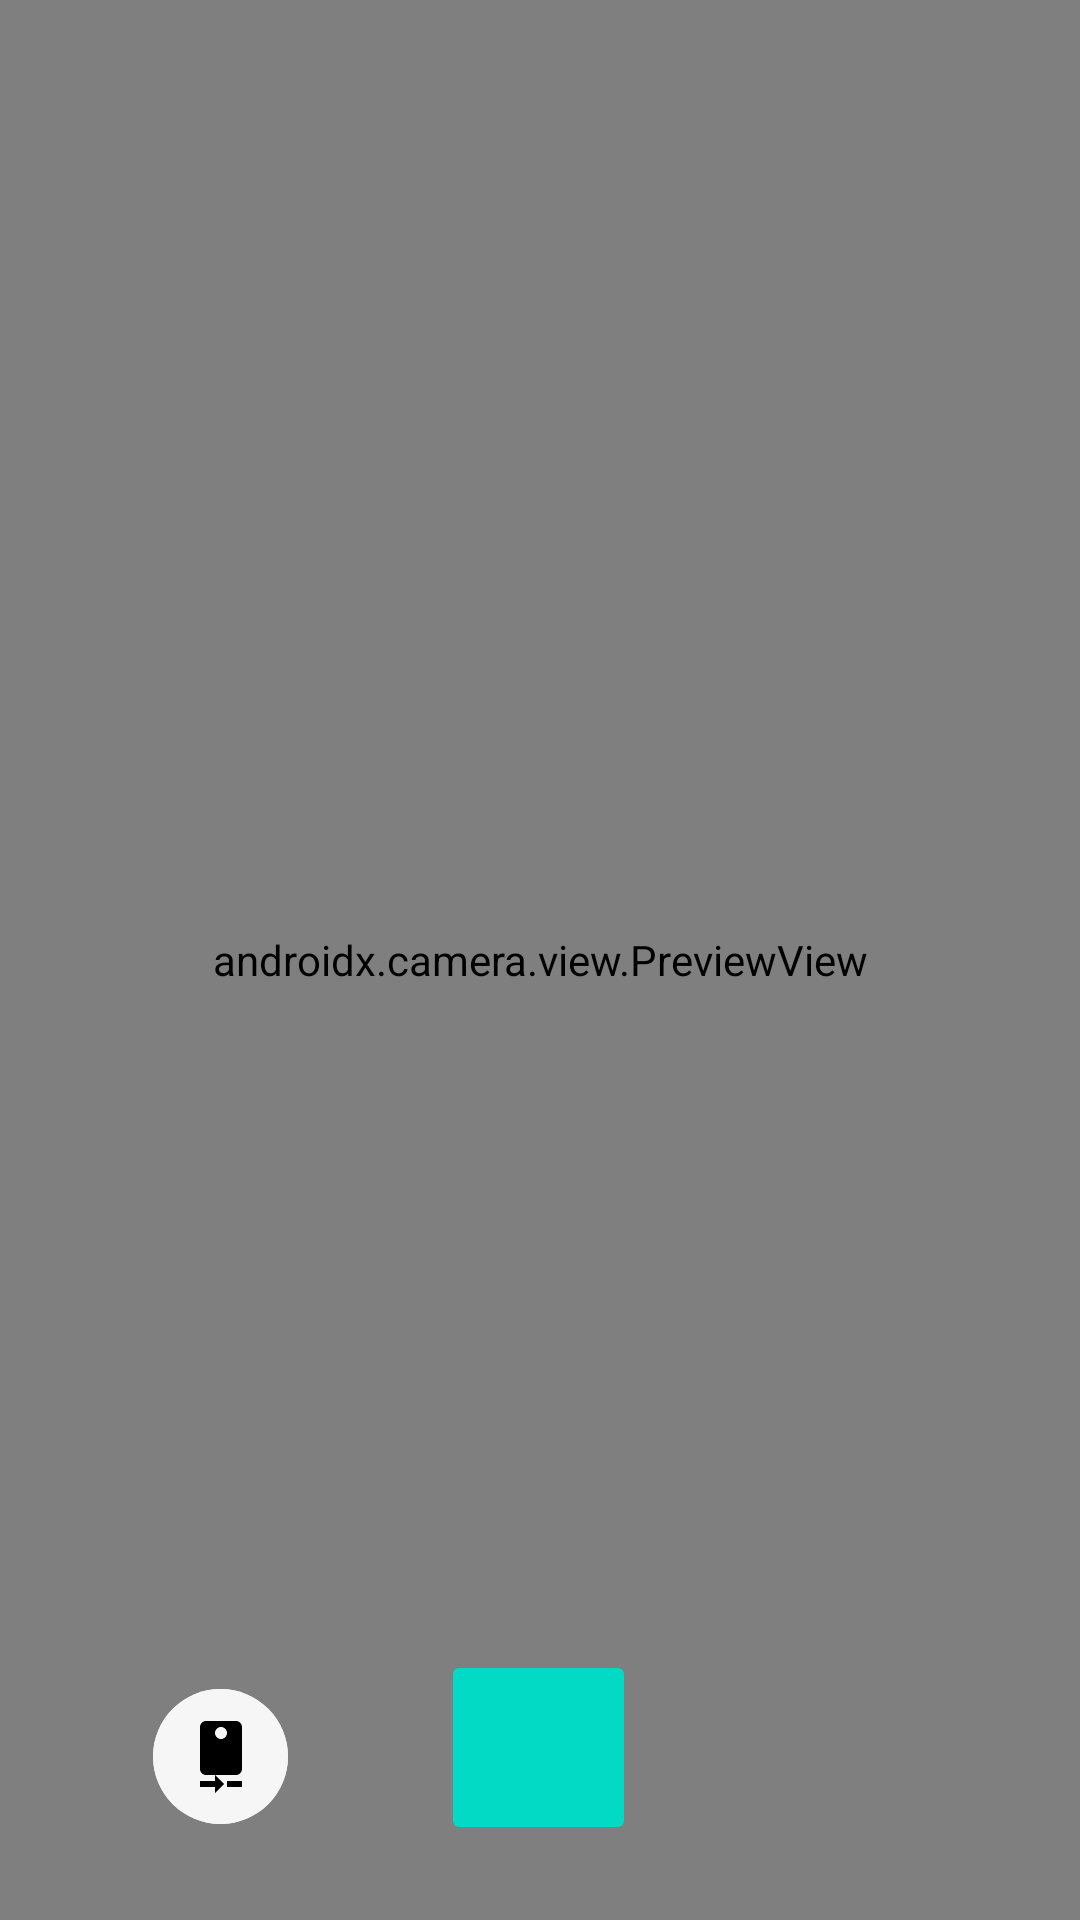

Icons on this 1080px×1920px Android screen, each with its box as region(x1, y1, x2, y2):
camera back: region(153, 1689, 288, 1824)
